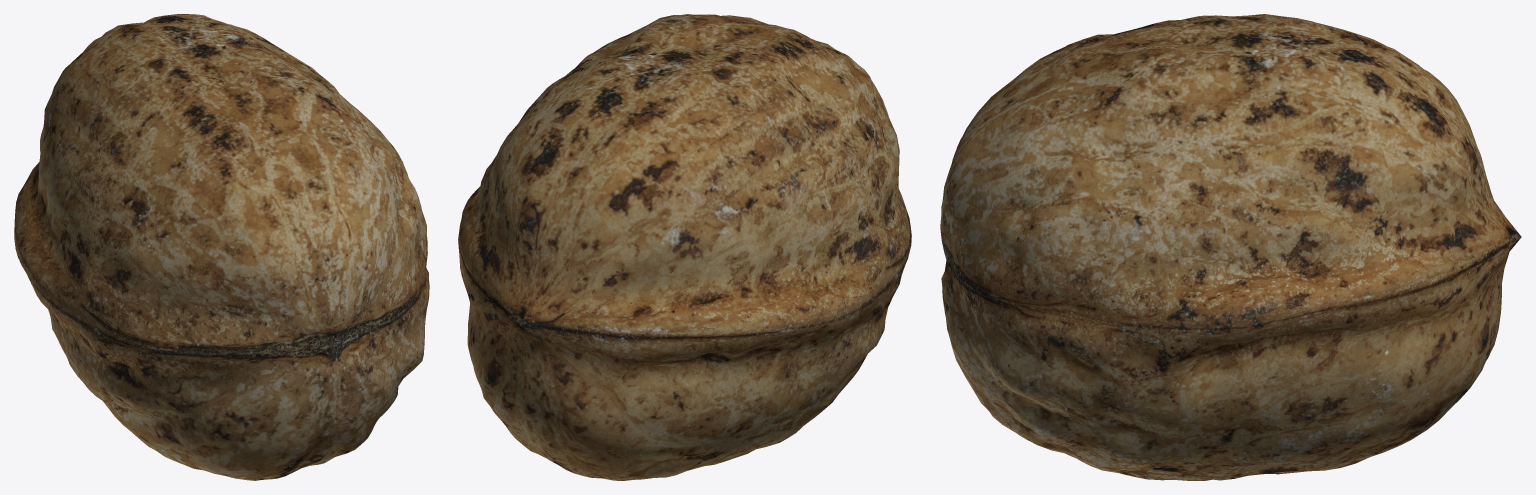
Rendered from walnut.glb.
3 views of the same model, side by side, from view 1: azimuth 30°, elevation 25°; view 2: azimuth 150°, elevation 25°; view 3: azimuth 270°, elevation 25° (orthographic). The views are drawn at different scales.
Parts seen in each view (by area): view 1: Nut; view 2: Nut; view 3: Nut.
Part boxes in pixels (bbox=[...]): Nut: bbox=[14, 14, 429, 480]; Nut: bbox=[458, 14, 911, 480]; Nut: bbox=[940, 14, 1521, 480].
Size of the model in its own units: 0.0301 by 0.0317 by 0.04.
Materials: 1 (1 with a texture image).
